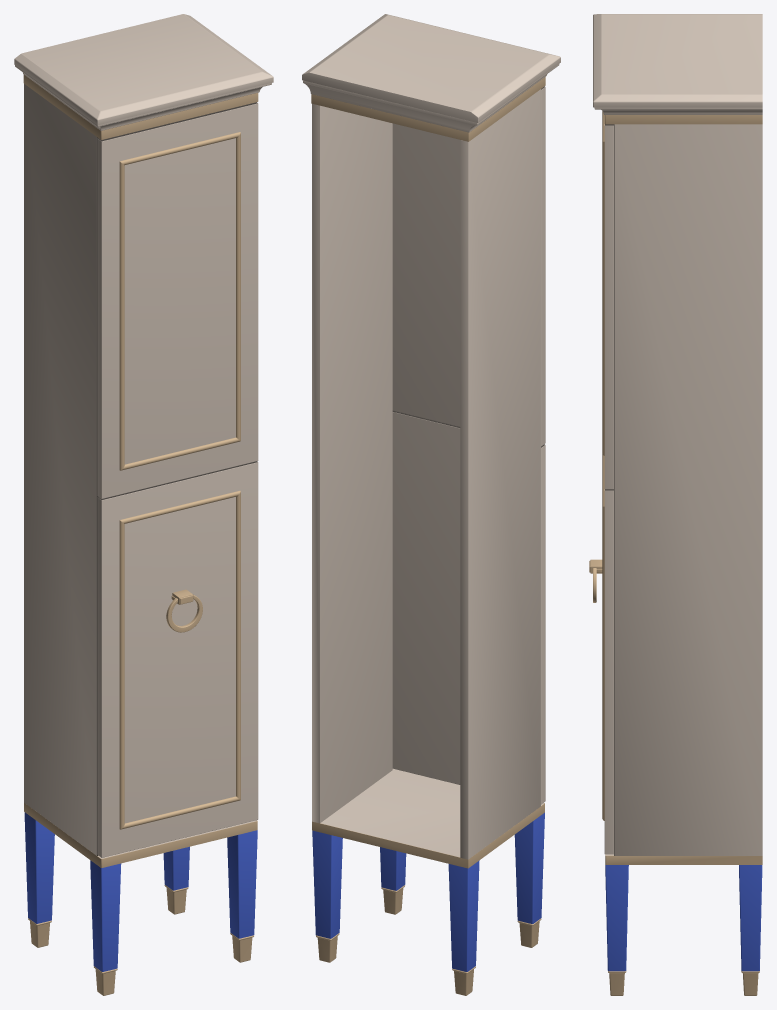
The picture shows the model from 3 angles, left to right: view 1: azimuth 30°, elevation 25°; view 2: azimuth 150°, elevation 25°; view 3: azimuth 270°, elevation 25°; orthographic projection.
Parts seen in each view (by area): view 1: AV11; view 2: AV11; view 3: AV11.
Boxes of the visible parts, x1=… form: AV11: x1=14, y1=14, x2=273, y2=995; AV11: x1=302, y1=14, x2=560, y2=995; AV11: x1=589, y1=14, x2=762, y2=995.
Bounding box in the file's own units: 0.394 × 1.9 × 0.3289.
Materials: 5 (2 with a texture image).
